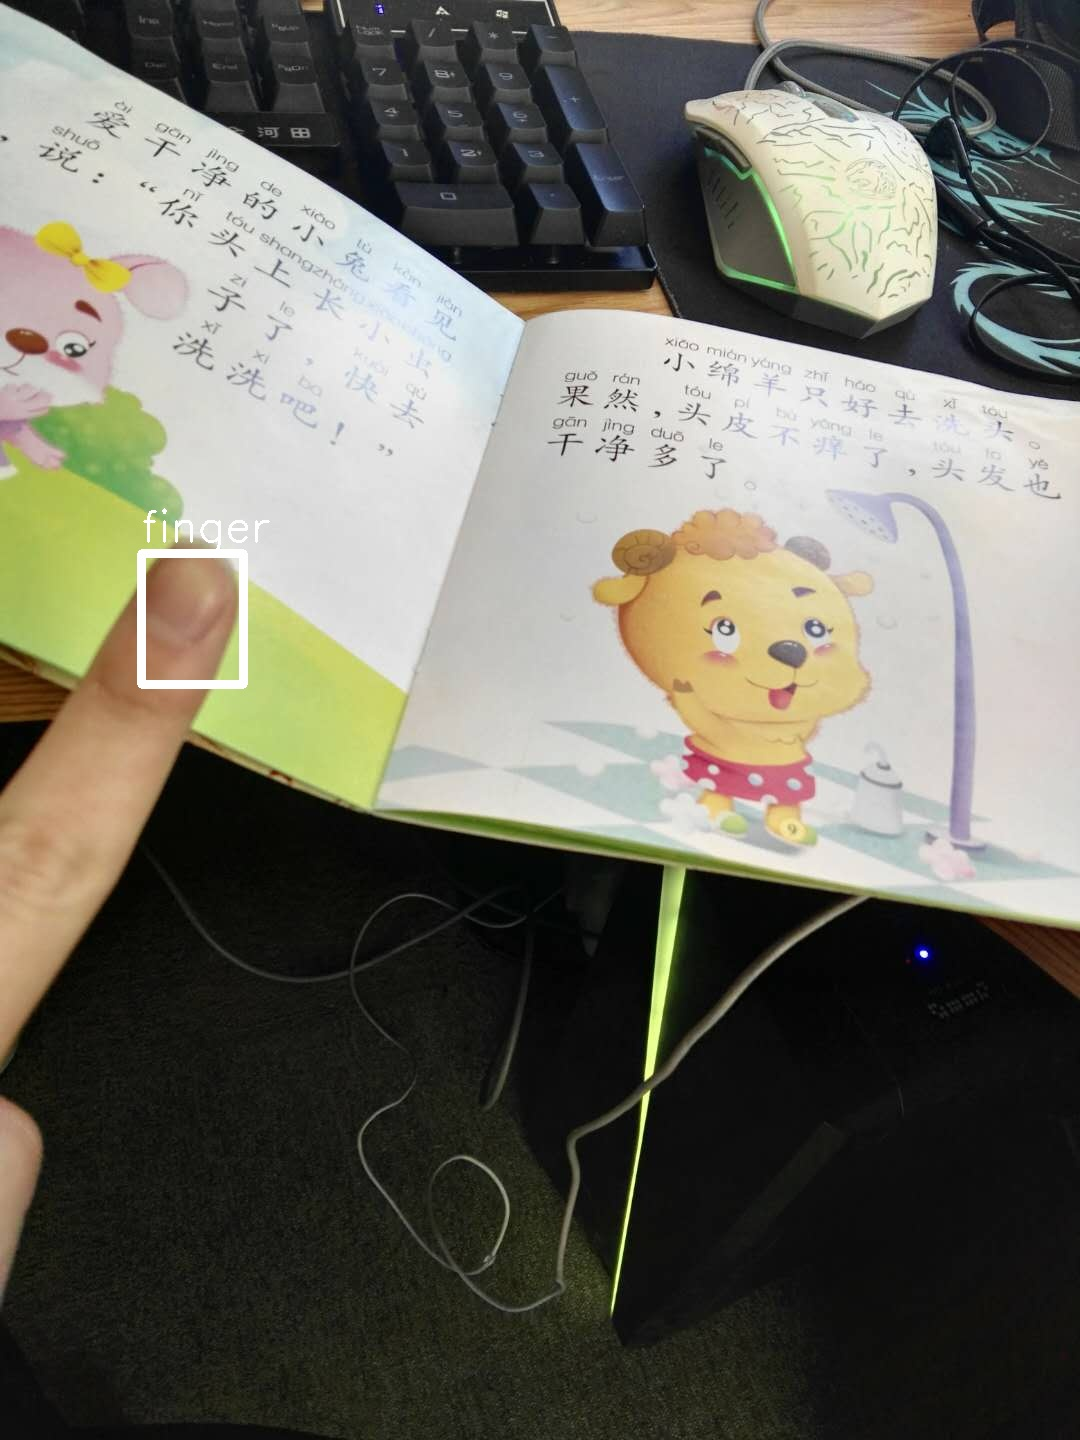finger: (70, 482, 250, 820)
